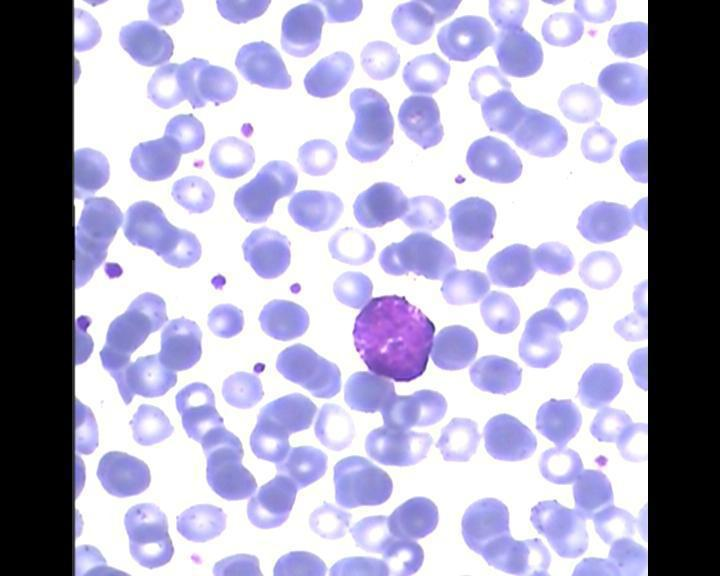baso: (347, 289, 441, 385)
